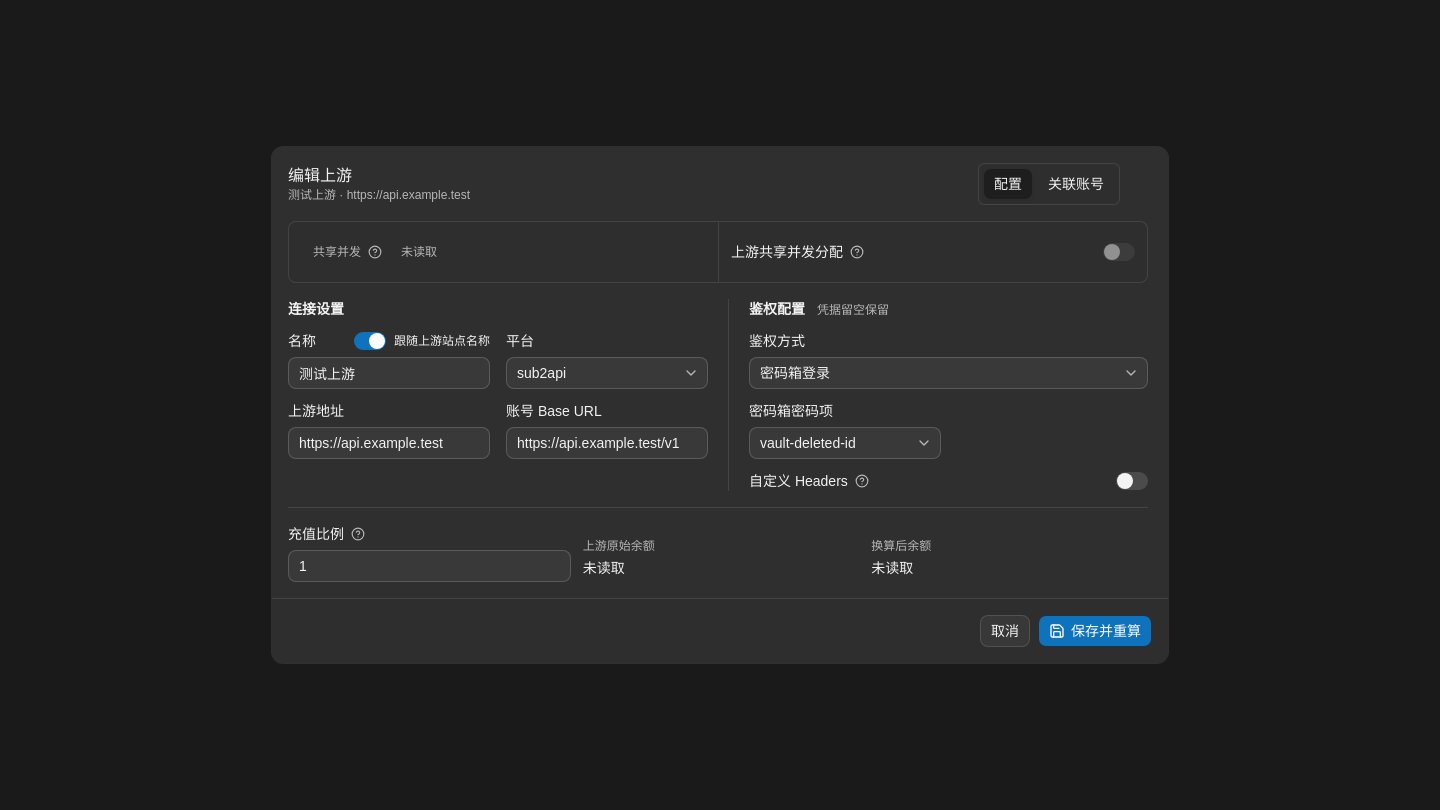
it: 已绑定凭据被删除时不自动换绑 Host 默认项，保存要求重新选择
Click the button "保存并重算" at (1095,631), box [1038,615,1152,647]
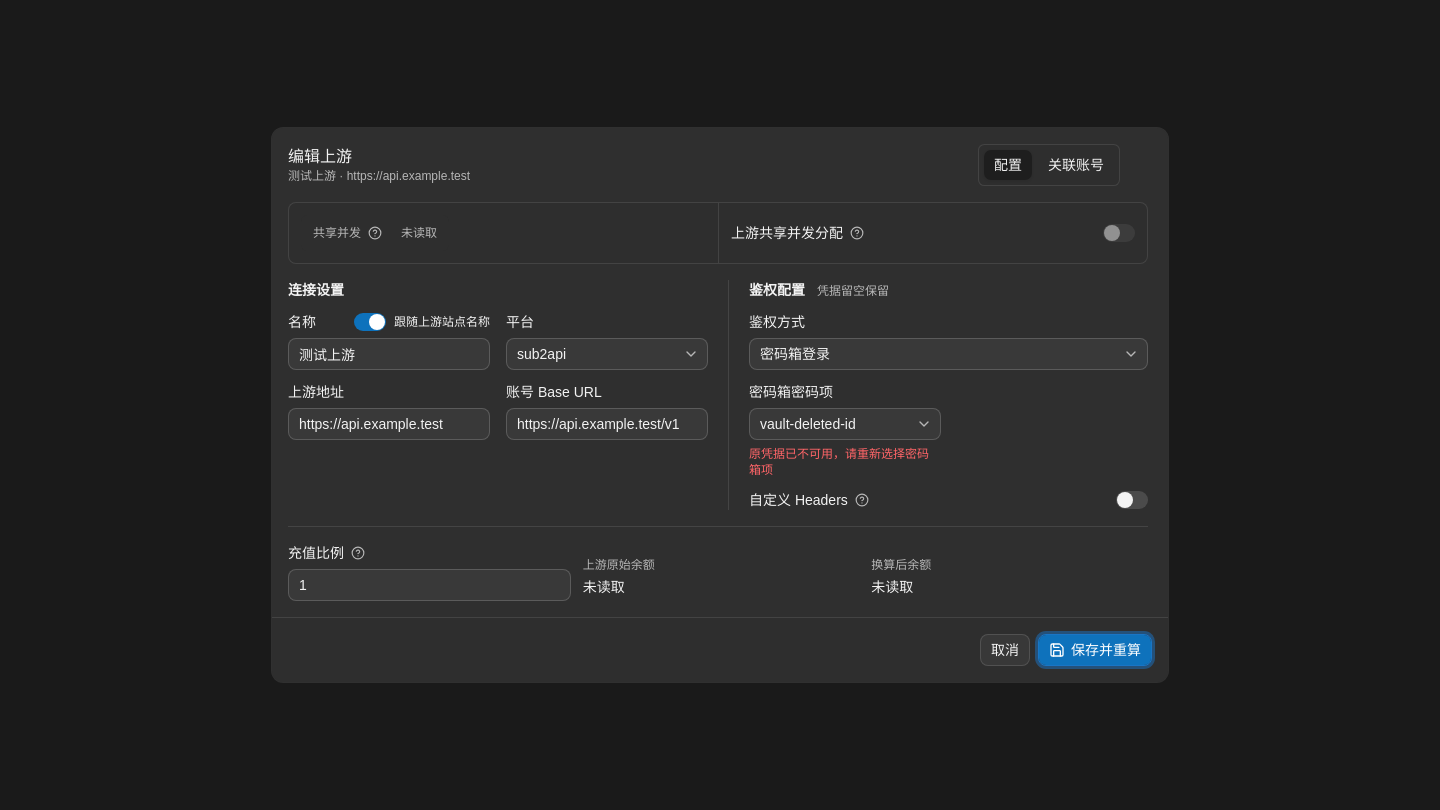
Expected: the dropdown named "密码箱密码项" does not show "Host 默认资料", [749,408,940,440]
Now the text "原凭据已不可用，请重新选择密码箱项" is shown, box [749,446,940,478]
